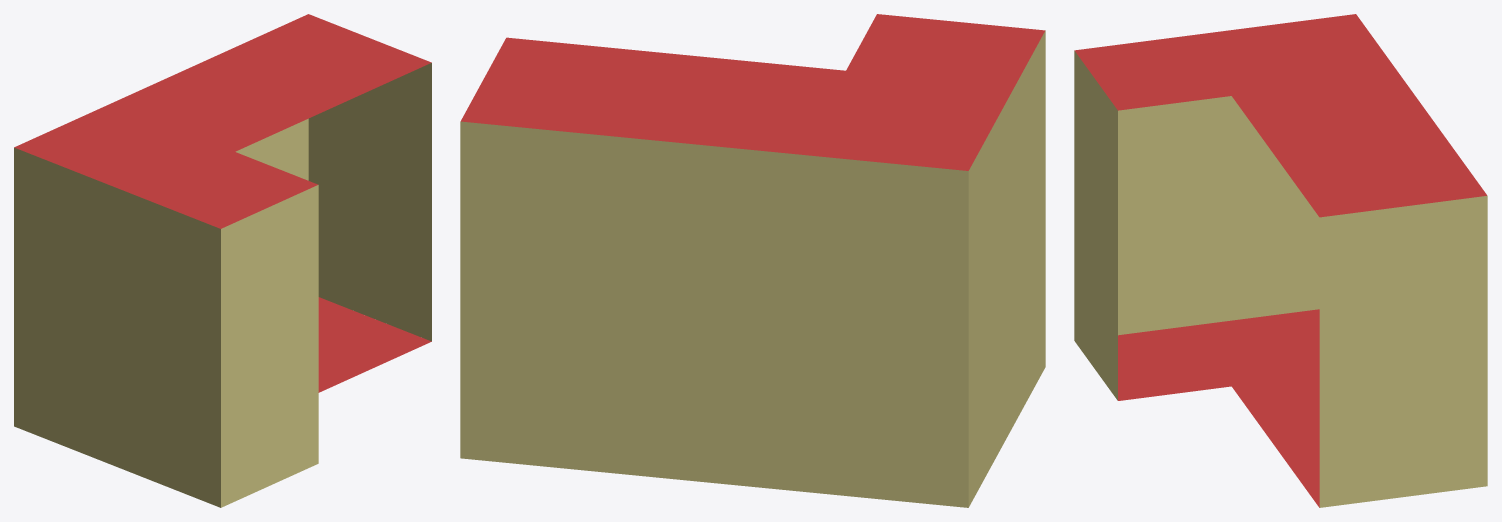
The picture shows the model from 3 angles, left to right: view 1: azimuth 30°, elevation 25°; view 2: azimuth 150°, elevation 25°; view 3: azimuth 270°, elevation 25°; orthographic projection. The views are drawn at different scales.
Parts seen in each view (by area): view 1: group_4, group_3, group_5; view 2: group_4, group_3; view 3: group_4, group_3, group_5.
Part boxes in pixels (left/top/right/bottom): group_4: left=14, top=63, right=431, bottom=507; group_3: left=14, top=14, right=431, bottom=228; group_5: left=318, top=297, right=431, bottom=392; group_4: left=460, top=30, right=1045, bottom=507; group_3: left=460, top=14, right=1045, bottom=170; group_4: left=1074, top=51, right=1487, bottom=507; group_3: left=1074, top=14, right=1486, bottom=217; group_5: left=1118, top=309, right=1319, bottom=507.
Bounding box in the file's own units: 13.65 × 11.71 × 9.09.
